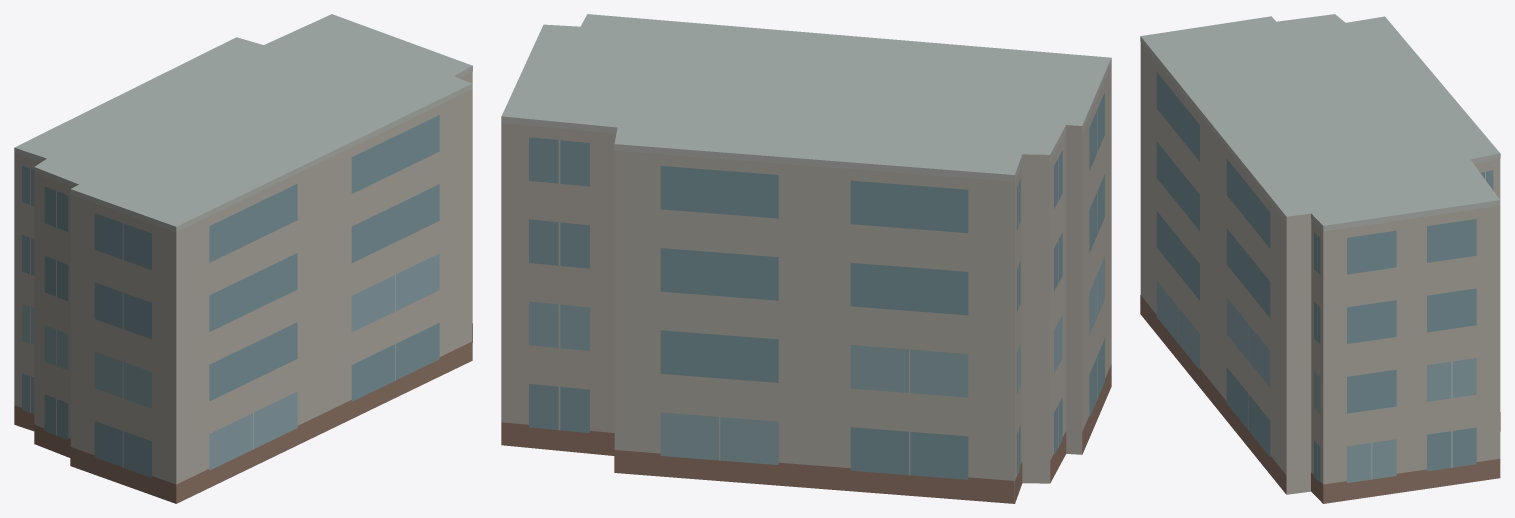
The model's file is survey-upis-32586446.glb.
The picture shows the model from 3 angles, left to right: view 1: azimuth 30°, elevation 25°; view 2: azimuth 150°, elevation 25°; view 3: azimuth 270°, elevation 25°; orthographic projection. The views are drawn at different scales.
Parts seen in each view (by area): view 1: survey-upis-32586446.tmp; view 2: survey-upis-32586446.tmp; view 3: survey-upis-32586446.tmp.
Boxes of the visible parts, x1,y1,x2,y2 form: survey-upis-32586446.tmp: [14, 14, 472, 503]; survey-upis-32586446.tmp: [501, 14, 1111, 503]; survey-upis-32586446.tmp: [1140, 14, 1500, 503].
Size of the model in its own units: 19.95 by 12.2 by 14.32.
